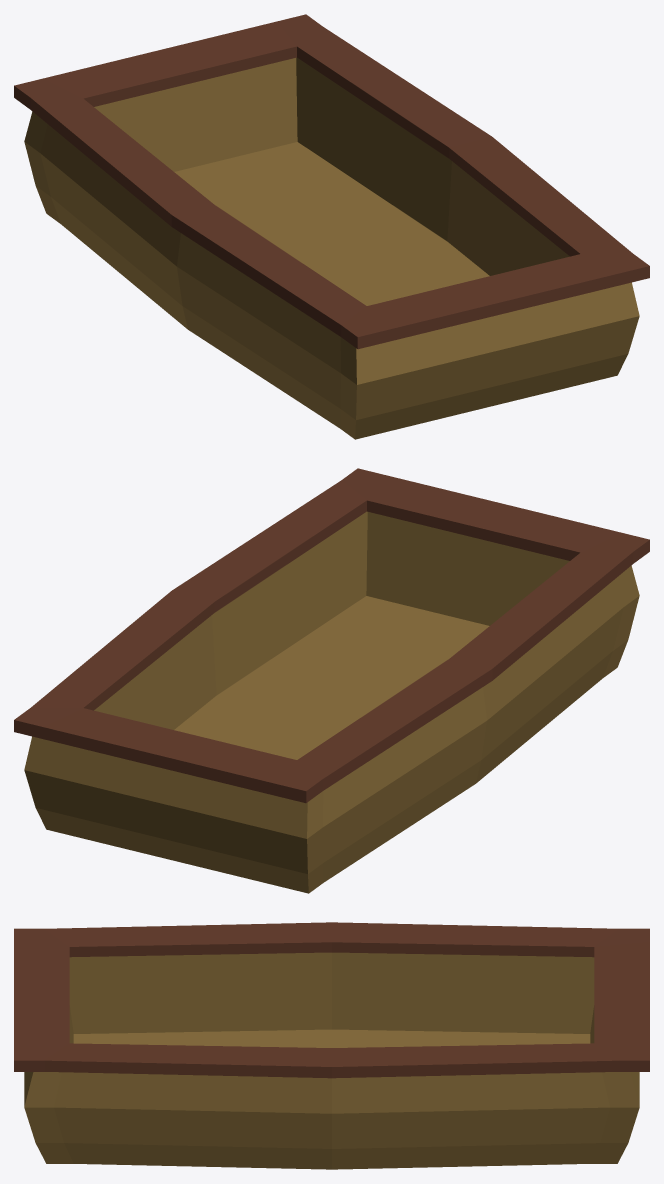
The model's file is Gemi2.fbx.
3 views of the same model, one above another, from view 1: azimuth 30°, elevation 25°; view 2: azimuth 150°, elevation 25°; view 3: azimuth 270°, elevation 25° (orthographic). The views are drawn at different scales.
Visible parts, largest first — view 1: Cube.001; view 2: Cube.001; view 3: Cube.001.
Boxes of the visible parts, bbox=[...] form: Cube.001: bbox=[14, 14, 649, 439]; Cube.001: bbox=[14, 468, 649, 893]; Cube.001: bbox=[14, 922, 649, 1169].
Size of the model in its own units: 256 by 90.8 by 476.
